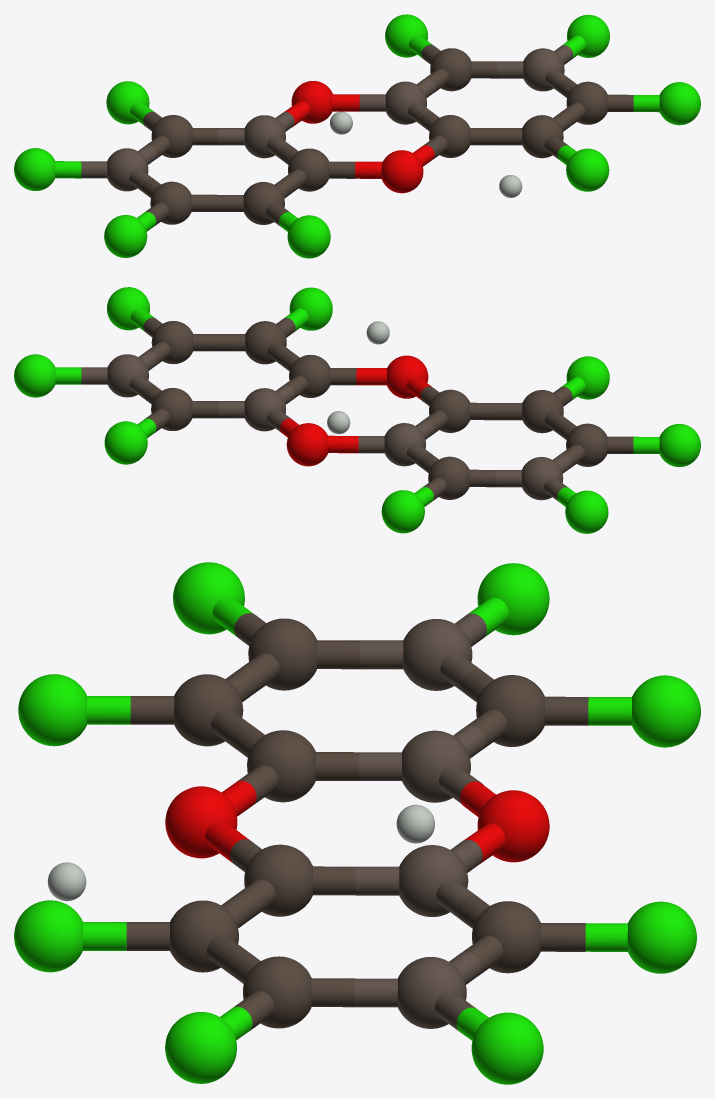
Rendered from ModeloCompleto.fbx.
3 renders of one model, top to bottom at view 1: azimuth 30°, elevation 25°; view 2: azimuth 150°, elevation 25°; view 3: azimuth 270°, elevation 25°, orthographic. The views are drawn at different scales.
Parts seen in each view (by area): view 1: Mesh.013, particulaV, particula2, particula1; view 2: Mesh.013, particulaV, particula1, particula2; view 3: Mesh.013, particulaV, conexionV1C1, particula2, particula1.
Part boxes in pixels (left/top/right/bottom): Mesh.013: left=14, top=14, right=700, bottom=258; particulaV: left=385, top=14, right=427, bottom=57; particula2: left=330, top=111, right=352, bottom=134; particula1: left=499, top=175, right=522, bottom=197; Mesh.013: left=14, top=287, right=700, bottom=533; particulaV: left=104, top=421, right=147, bottom=464; particula1: left=366, top=321, right=389, bottom=344; particula2: left=327, top=411, right=350, bottom=434; Mesh.013: left=14, top=562, right=700, bottom=1084; particulaV: left=627, top=901, right=696, bottom=973; conexionV1C1: left=585, top=923, right=627, bottom=951; particula2: left=396, top=804, right=434, bottom=843; particula1: left=47, top=862, right=86, bottom=901.
Size of what is drawn, in the model's own units: 4460 by 286 by 2694.
